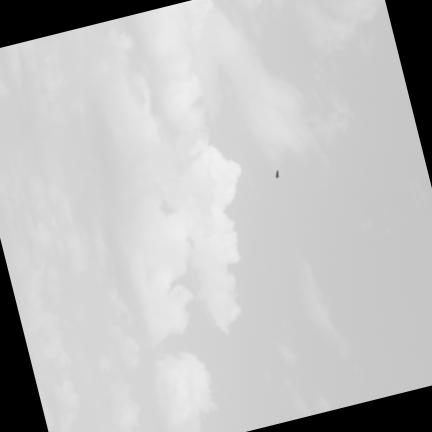Shahed: (274, 169, 278, 179)
